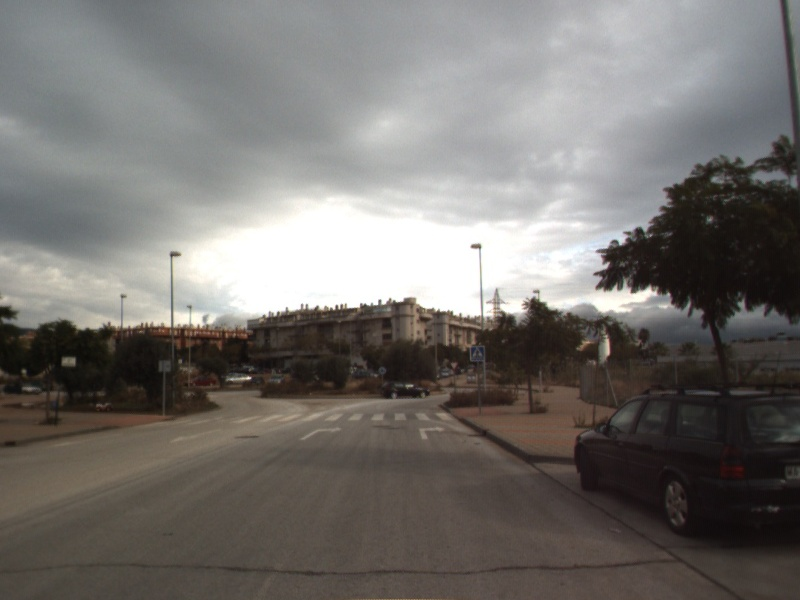RIGHT: (298, 424, 344, 442), (417, 424, 447, 442)
